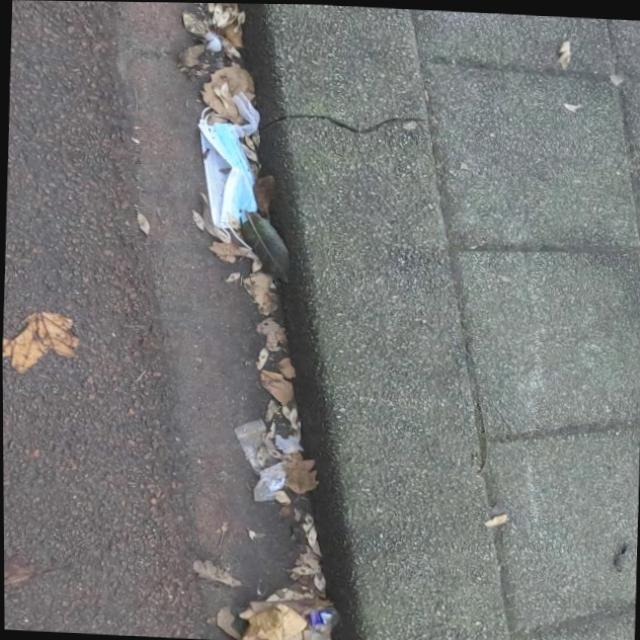Mask: (191, 102, 266, 252)
